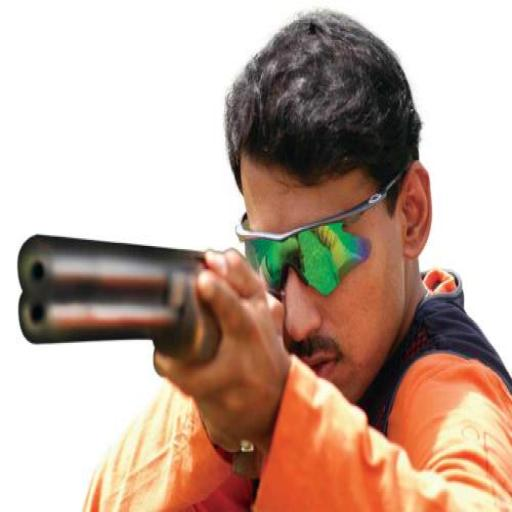shooting: (13, 22, 512, 512)
